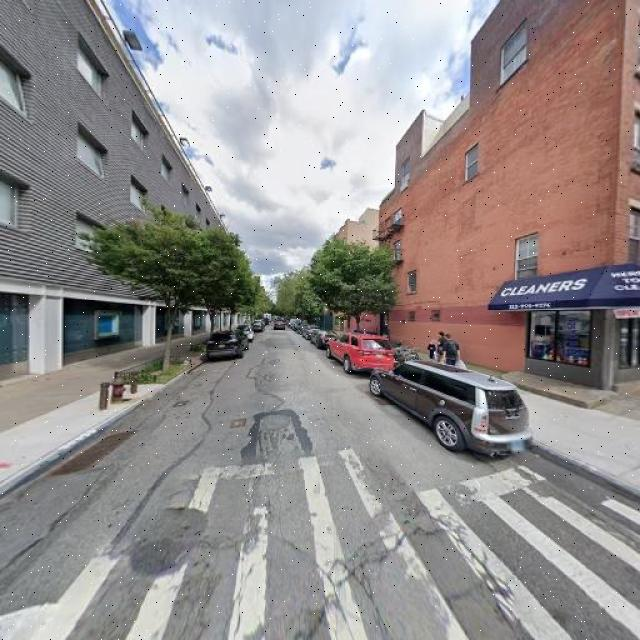Building: (378, 1, 640, 389), (1, 1, 255, 383)
